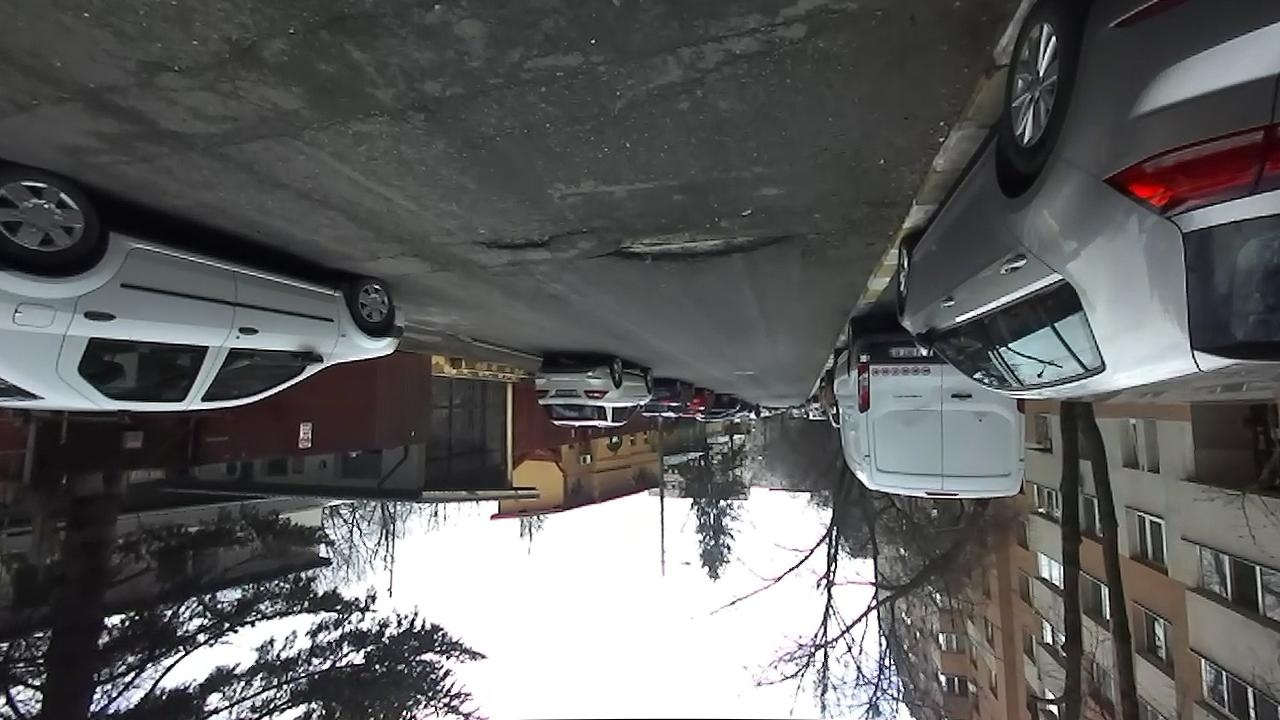pothole: (595, 222, 797, 265), (471, 225, 579, 254)
